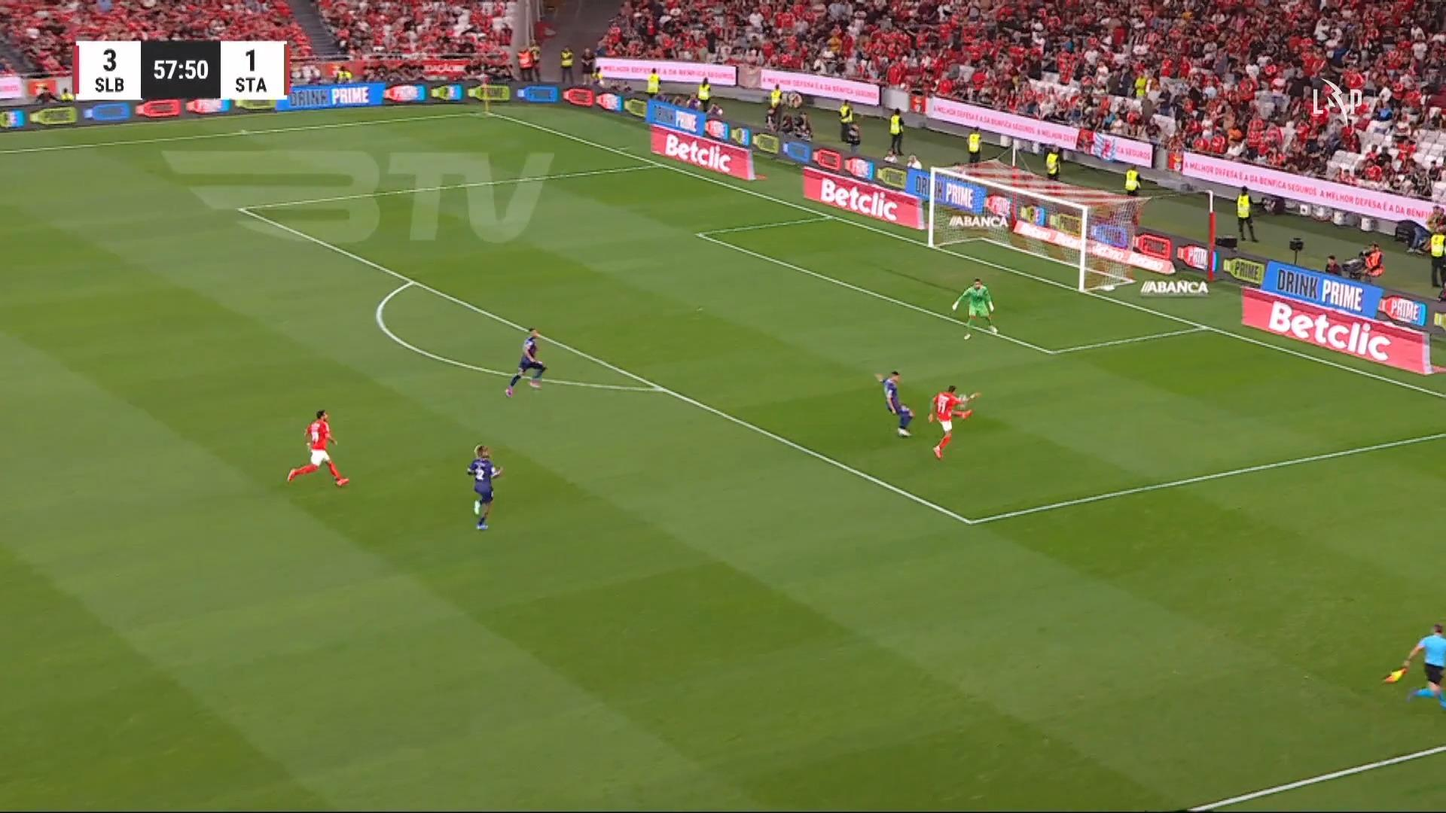ball: (955, 393, 969, 408)
goalkeeper: (950, 277, 998, 340)
player: (285, 409, 349, 487), (926, 383, 981, 460), (465, 443, 503, 531), (503, 327, 547, 397), (873, 369, 914, 437)
referee: (1400, 621, 1444, 708)
